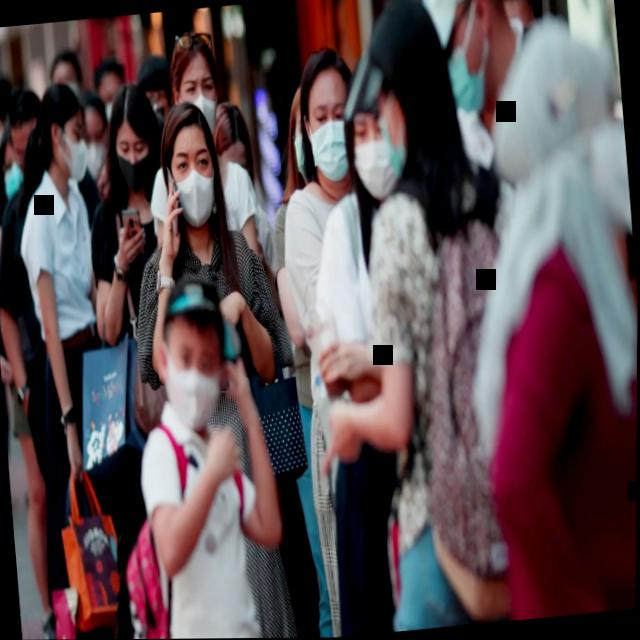Mask: (366, 0, 449, 186), (414, 0, 528, 125), (147, 278, 231, 434), (150, 99, 224, 241), (299, 42, 362, 181), (99, 84, 166, 201), (344, 61, 399, 203), (164, 27, 229, 147), (27, 80, 95, 193), (277, 79, 315, 190), (74, 95, 114, 186), (91, 57, 132, 125), (0, 121, 29, 202)
